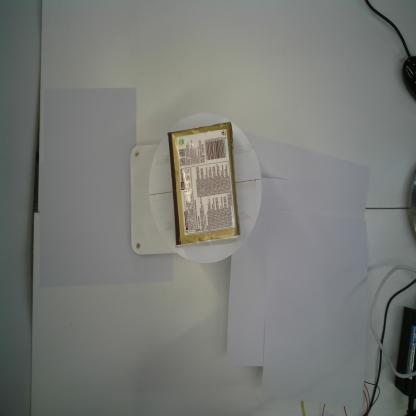Tissue: (166, 119, 242, 248)
